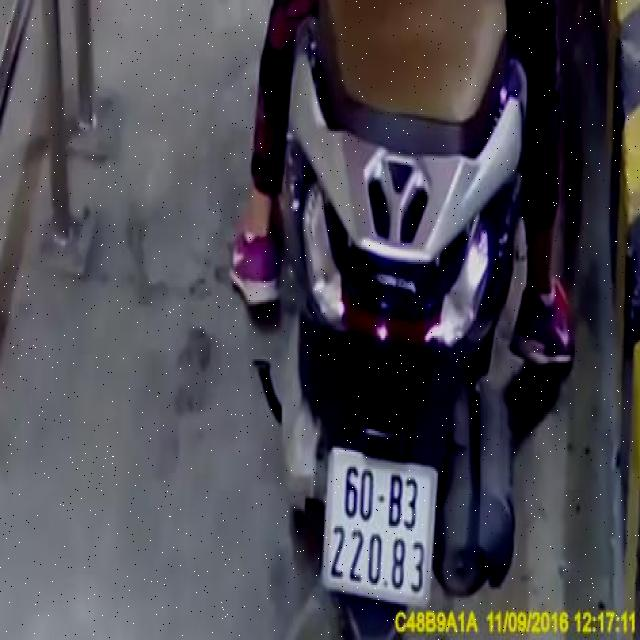0: (368, 526, 383, 590), (360, 467, 374, 523)
2: (348, 528, 366, 586), (330, 524, 346, 580)
3: (409, 538, 425, 598), (404, 473, 420, 532)
6: (342, 462, 359, 518)
8: (392, 537, 407, 594)
B: (388, 471, 402, 528)
